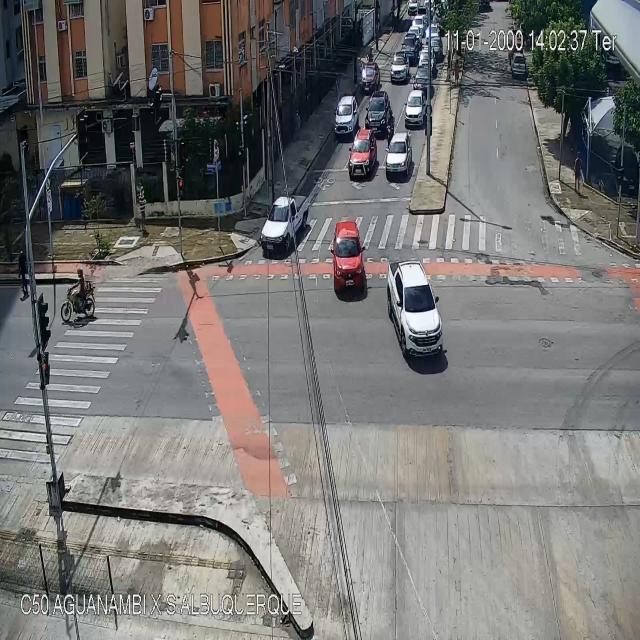Car: (387, 259, 445, 359), (330, 218, 366, 298), (260, 196, 309, 254), (348, 128, 377, 176), (386, 133, 413, 177), (333, 96, 359, 135), (366, 94, 390, 130), (404, 90, 425, 126), (401, 34, 420, 61), (391, 52, 409, 80), (361, 65, 380, 90), (414, 69, 432, 93), (511, 52, 527, 78), (428, 37, 442, 61), (419, 48, 434, 70), (413, 15, 426, 35), (427, 23, 438, 40)
Motorcycle: (61, 268, 96, 321), (386, 115, 396, 148), (368, 48, 373, 62)
